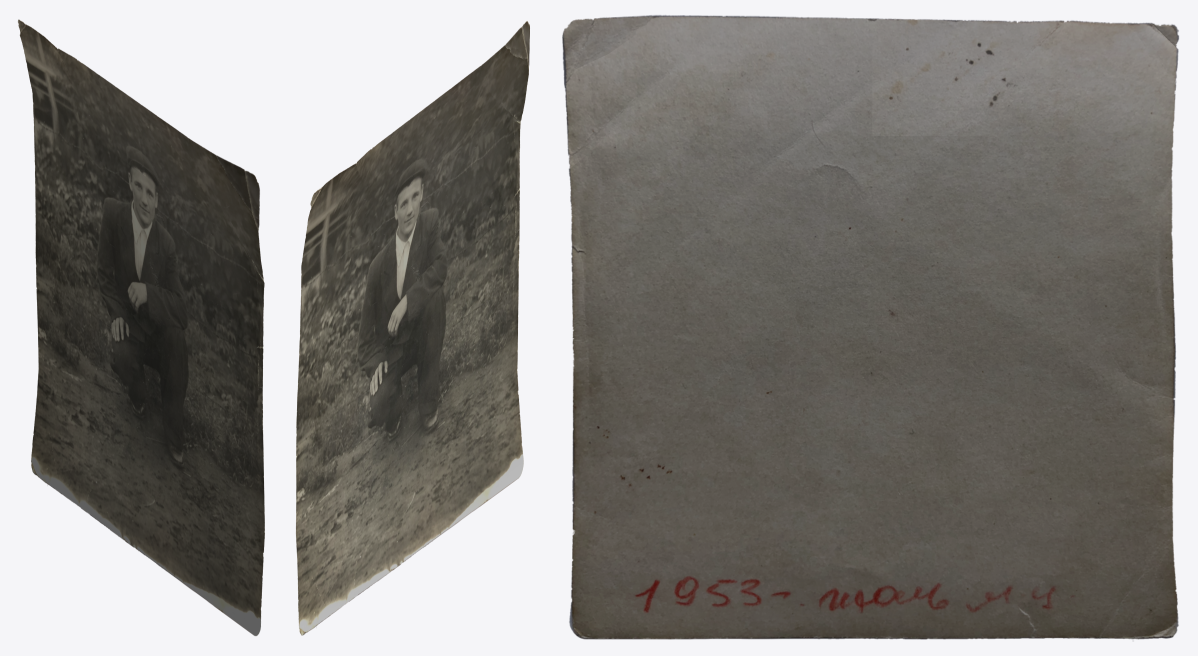
The model's file is old_photo.glb.
3 renders of one model, left to right at view 1: azimuth 30°, elevation 25°; view 2: azimuth 150°, elevation 25°; view 3: azimuth 270°, elevation 25°, orthographic. The views are drawn at different scales.
Visible parts, largest first — view 1: old_photo_0; view 2: old_photo_0; view 3: old_photo_0.
Boxes of the visible parts, x1,y1,x2,y2 form: old_photo_0: (18, 19, 264, 635); old_photo_0: (296, 21, 529, 635); old_photo_0: (562, 15, 1178, 639).
Bounding box in the file's own units: 0.1423 × 2.86 × 2.6.
2 materials, 2 textured.
